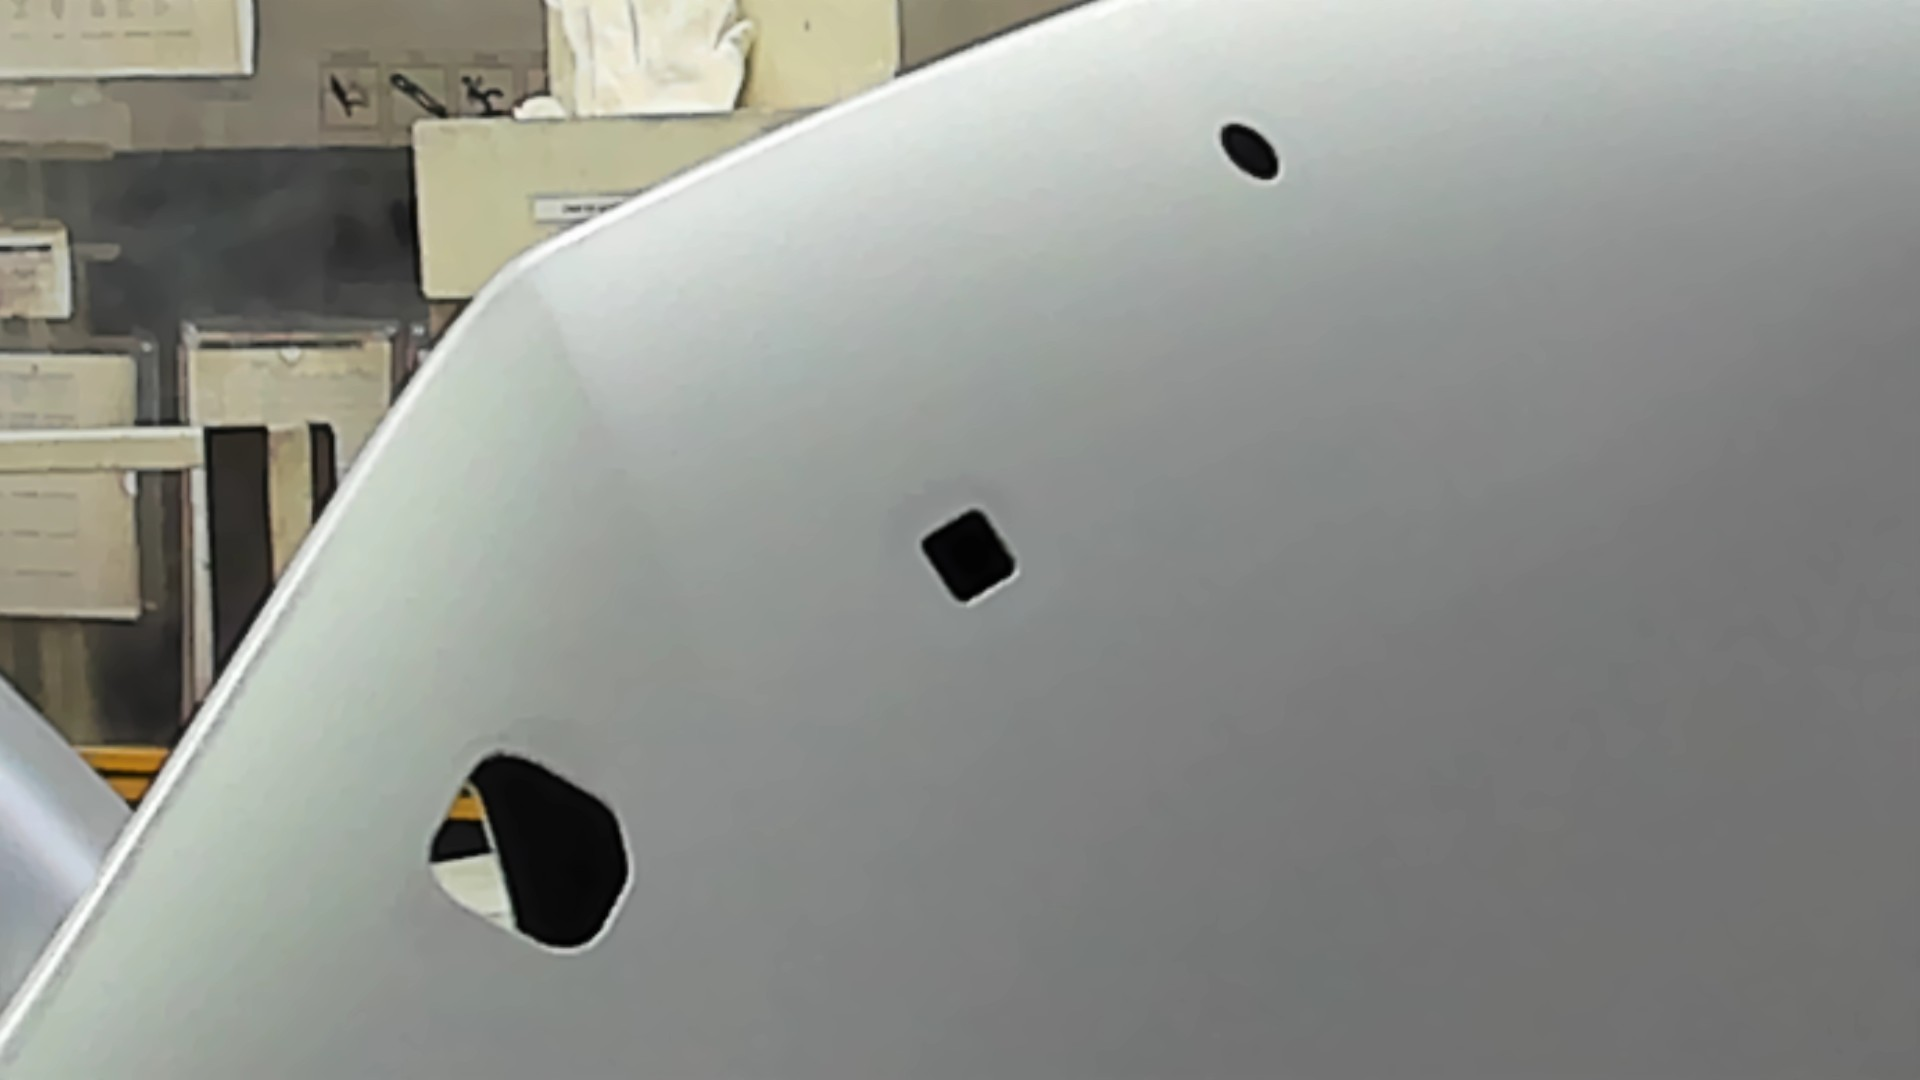capo: (1034, 200, 1920, 1080)
chico: (1213, 117, 1286, 185)
grande: (421, 740, 636, 964)
mediano: (913, 498, 1022, 612)
